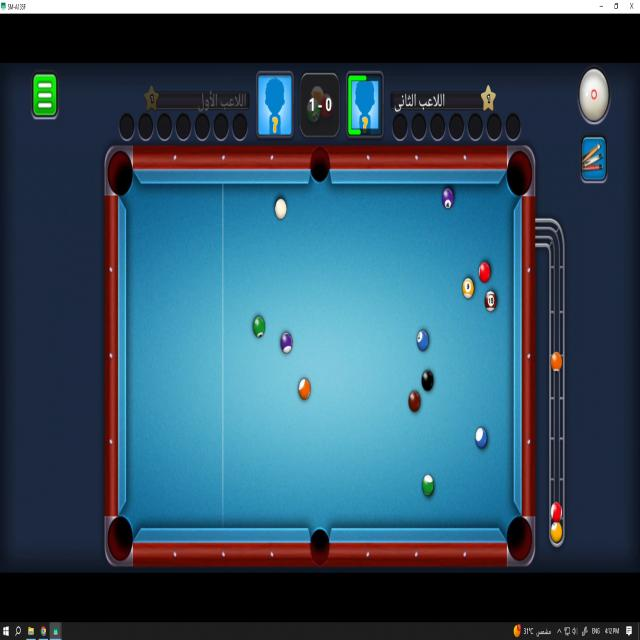object_ball: (417, 329, 429, 352), (479, 262, 490, 284), (422, 475, 434, 495), (442, 188, 453, 209), (422, 370, 433, 391), (299, 379, 310, 399), (281, 333, 292, 353), (485, 291, 496, 311), (409, 391, 420, 411), (476, 428, 487, 448), (254, 316, 264, 337), (463, 278, 473, 299)
white_cue_ball: (275, 198, 286, 219)
